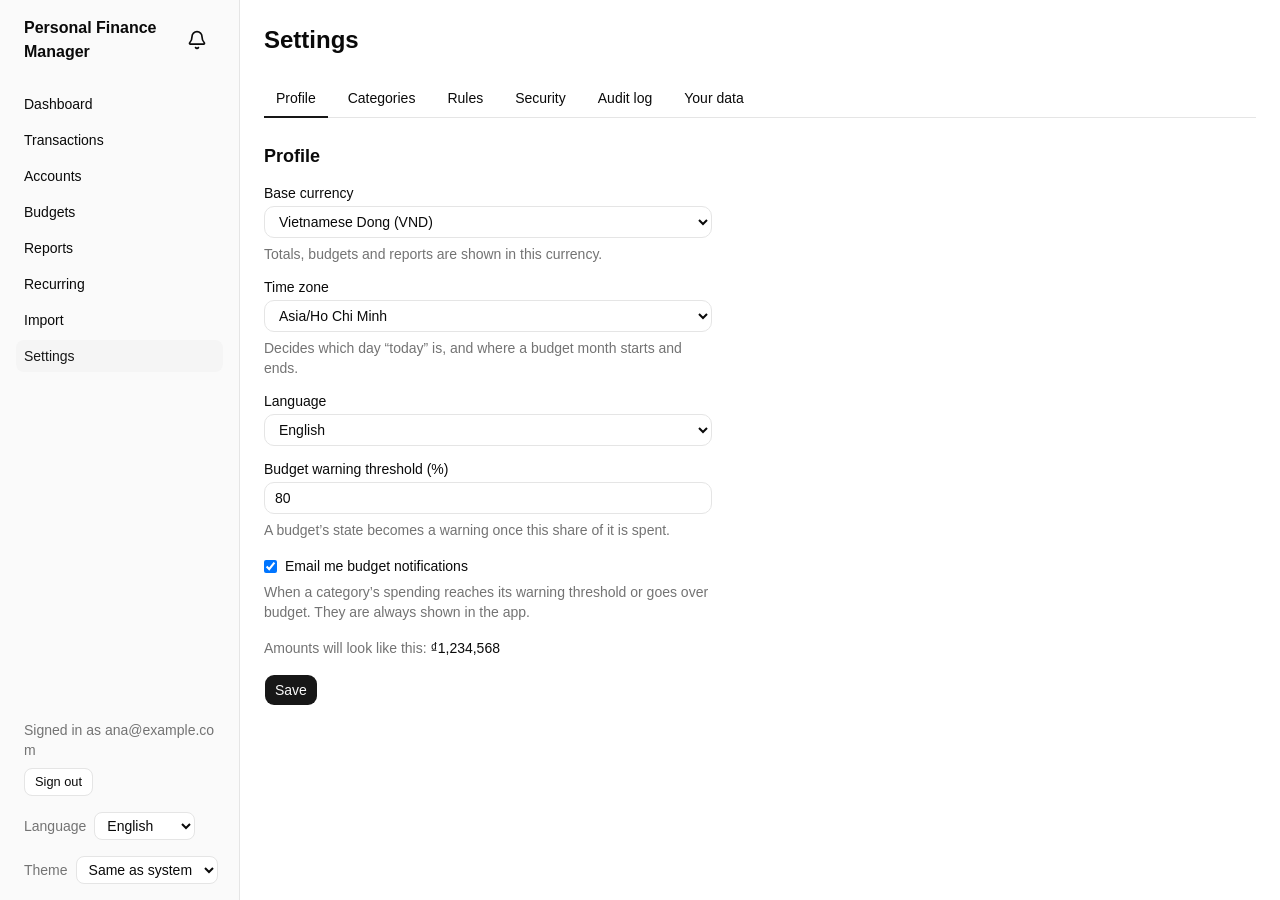
Test case: profile settings › show the budget warning threshold, and save another
Replace the text in the number field labelled "Budget warning threshold (%)" with "90": (488, 498) [264,482,712,514]
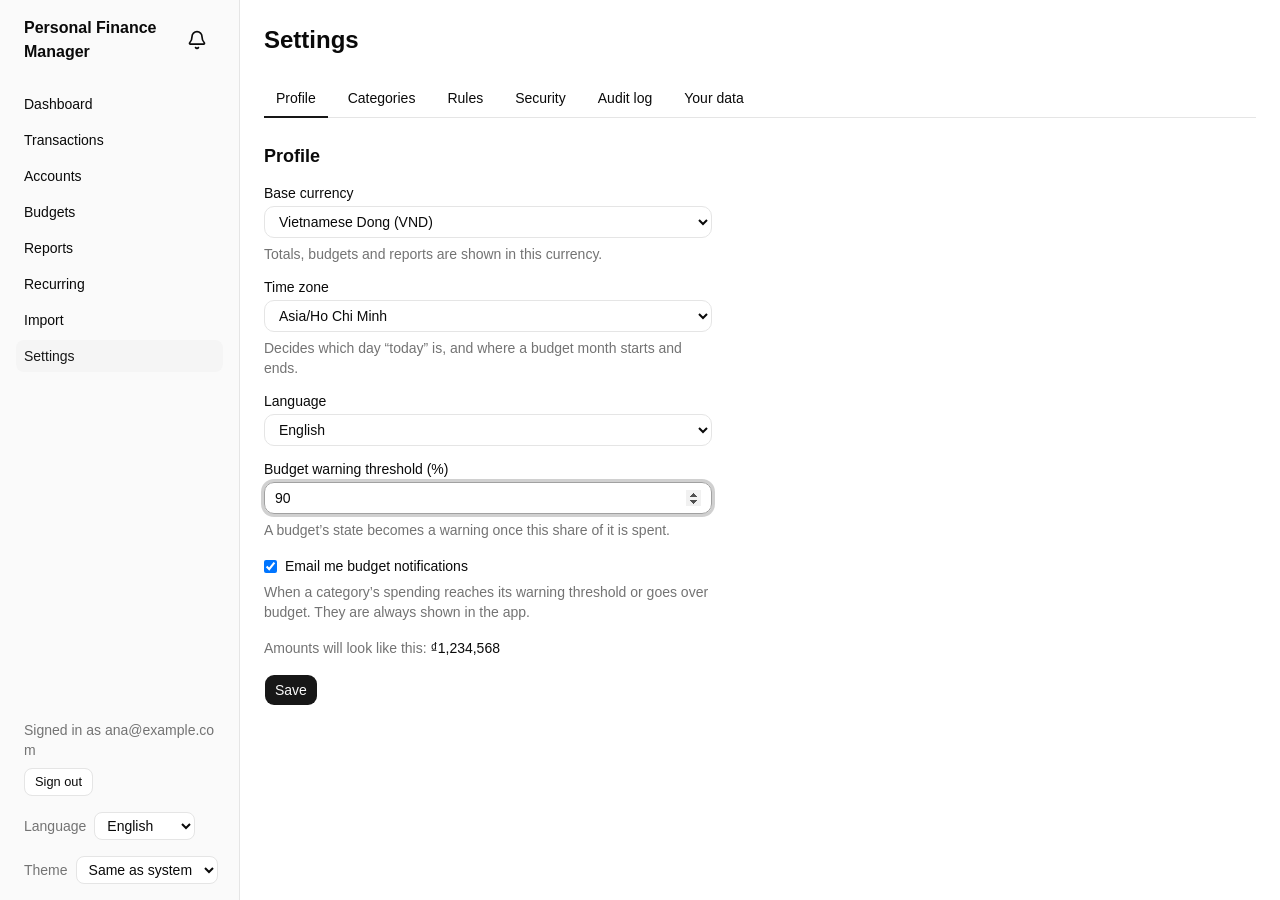
Click the button "Save": (291, 690) [264,674,318,706]
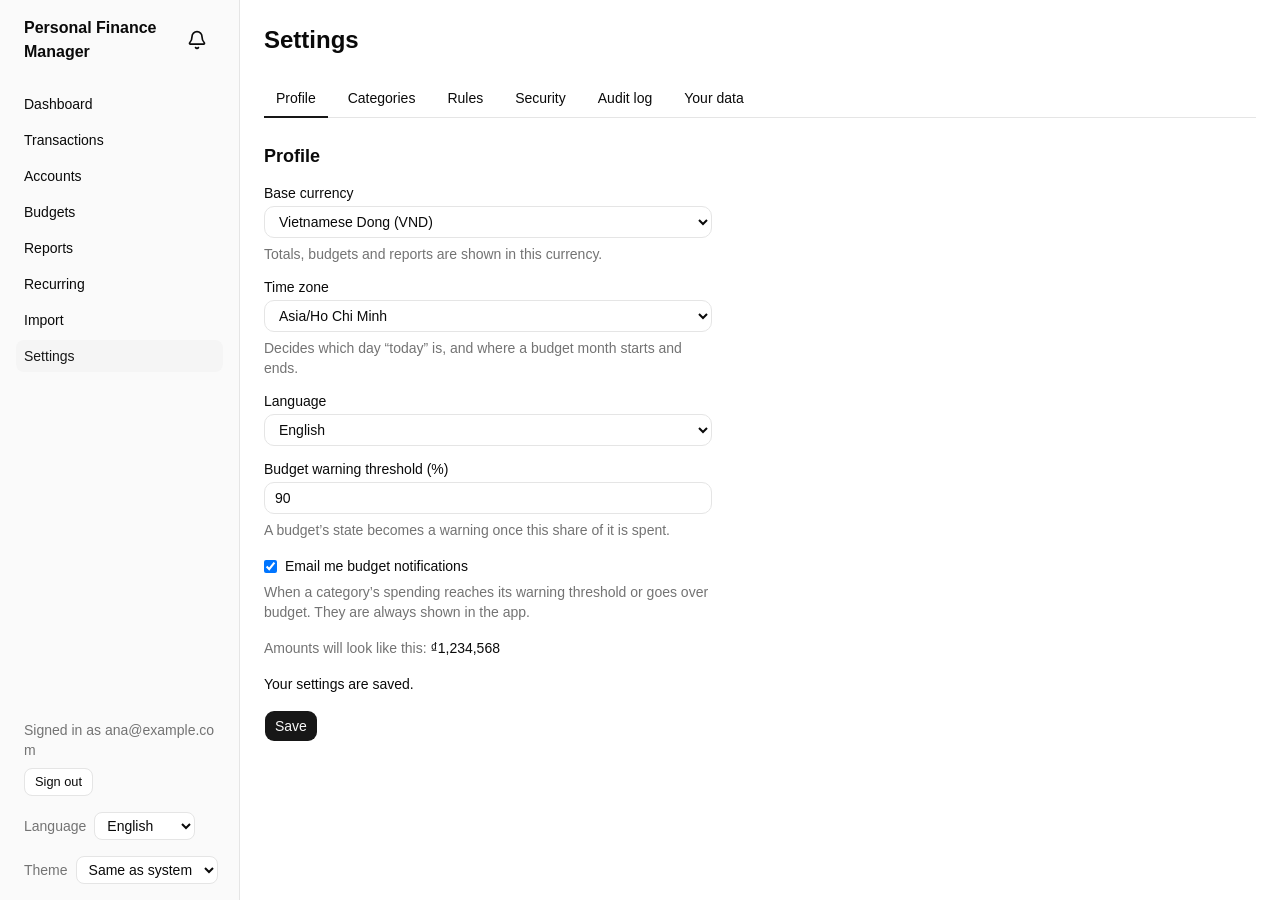
Now the message reads "Your settings are saved.", box [264,676,414,692]
